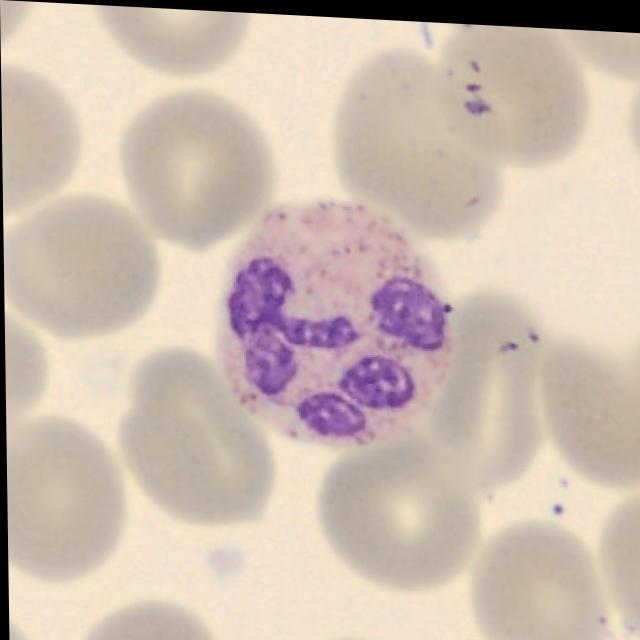Neutrofilo segmentado: (212, 195, 455, 449)
